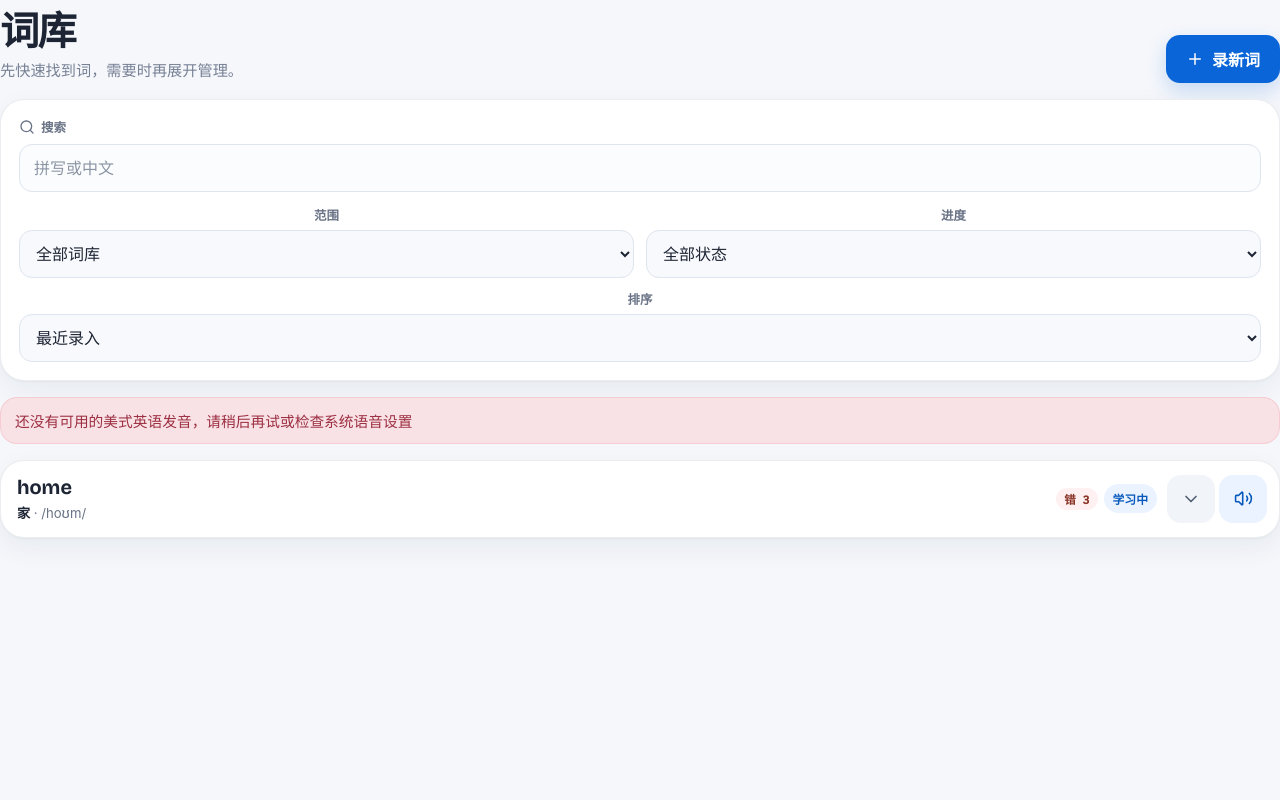
Test: WordsPage compact management › makes the compact row expandable and keeps pronunciation one tap away
The image size is (1280, 800).
Expected: the text "home" is shown, [17,475,72,499]
Expected: the button named "朗读 home" is shown, [1219,475,1267,523]
Click the button with aria-label "查看 home 详情" at (44, 487), box [1,461,1215,537]
(page scrolled)
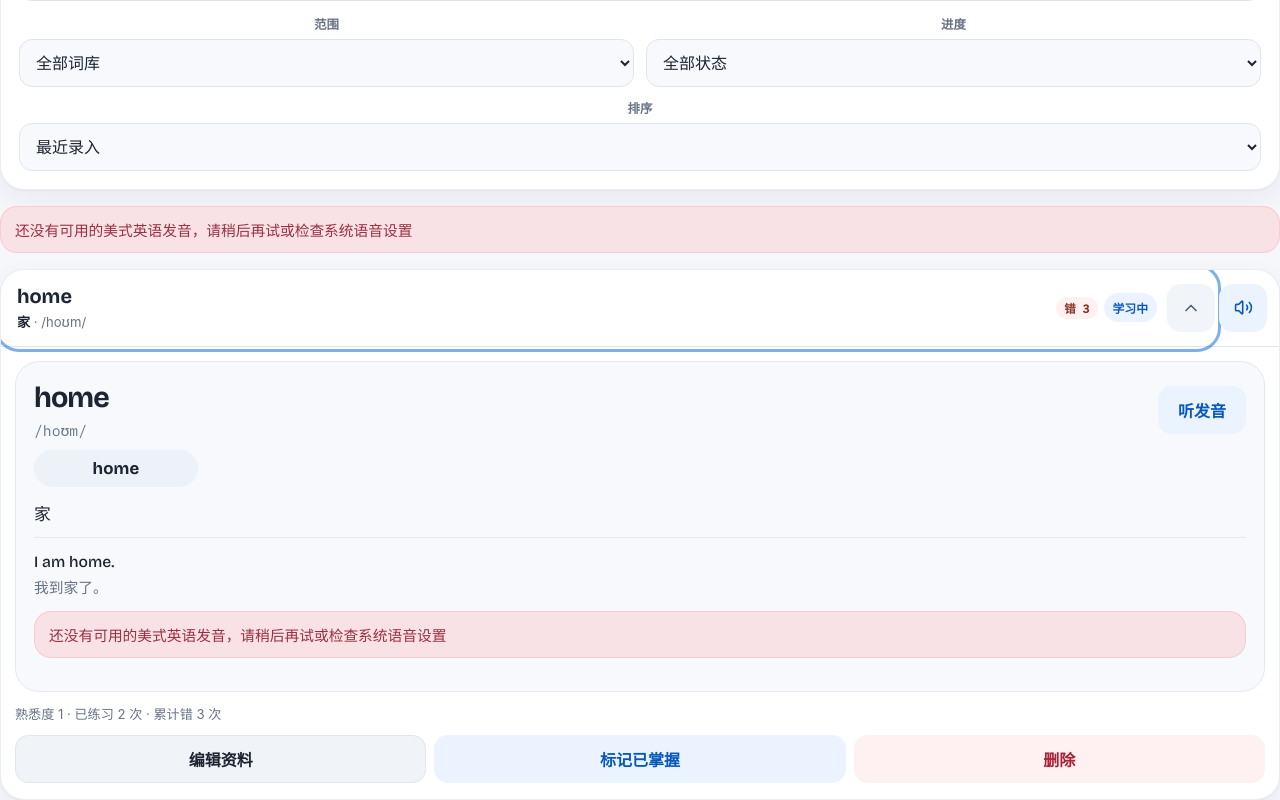
Expected: the button named "查看 home 详情" is expanded, [1,270,1215,346]
Expected: the button with aria-label "朗读单词" is shown, [1158,386,1246,434]
Expected: the button with aria-label "编辑 home" is shown, [15,735,426,783]
